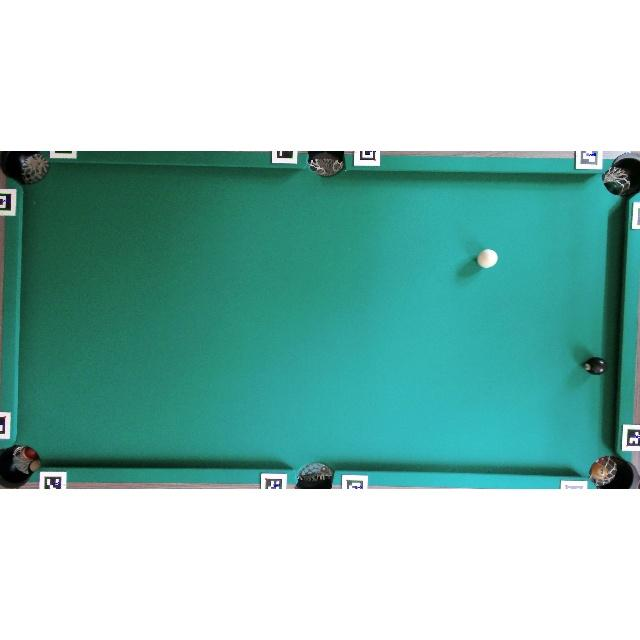cue ball: (476, 248, 499, 268)
other: (584, 356, 608, 376)
